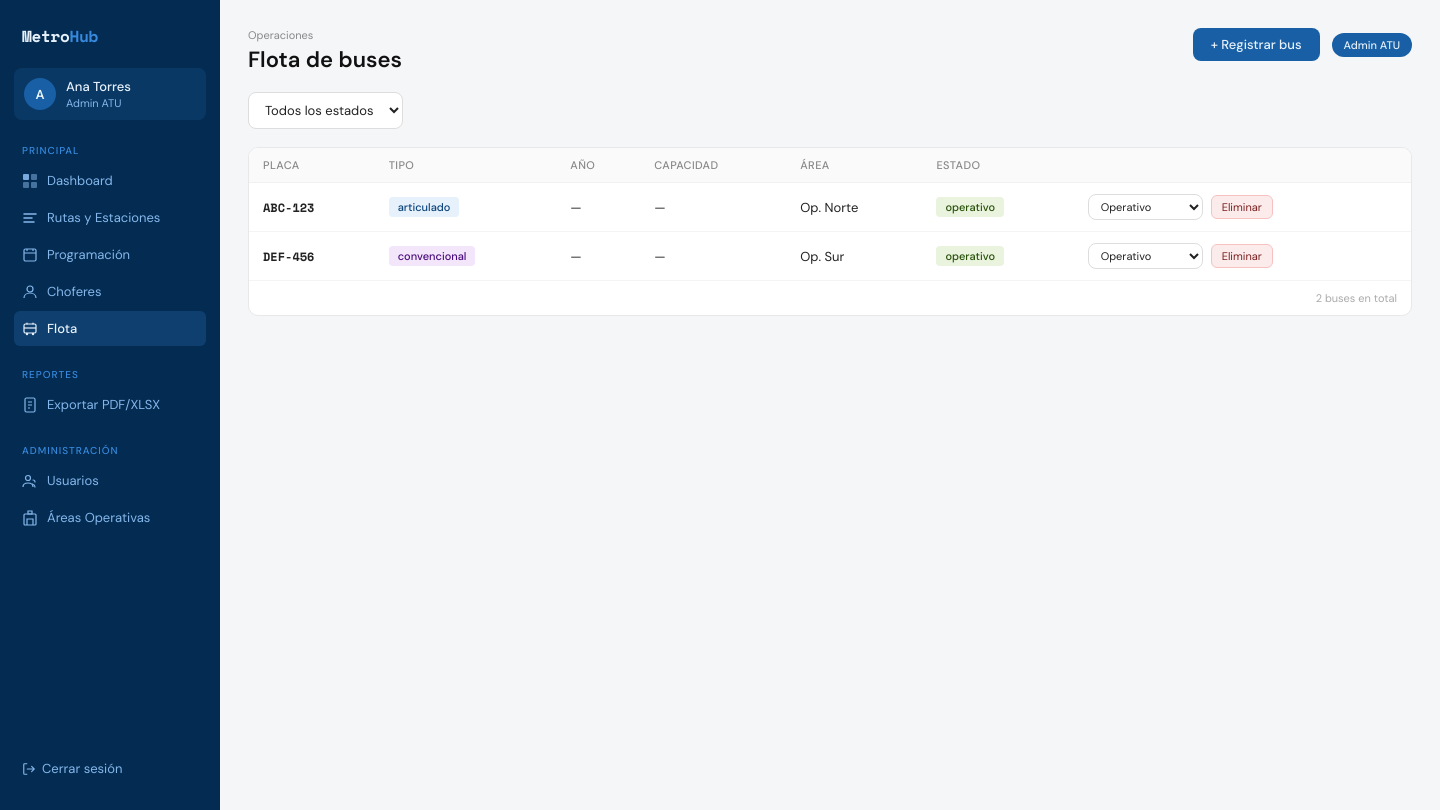
Test: Buses (RF09 — flota) › elimina un bus tras confirmar
Expected: the text "ABC-123" is shown, x1=263 y1=198 x2=314 y2=216
Step 1. Click the button "Eliminar" in the row of "ABC-123" → (1242, 207), box x1=1211 y1=195 x2=1273 y2=219
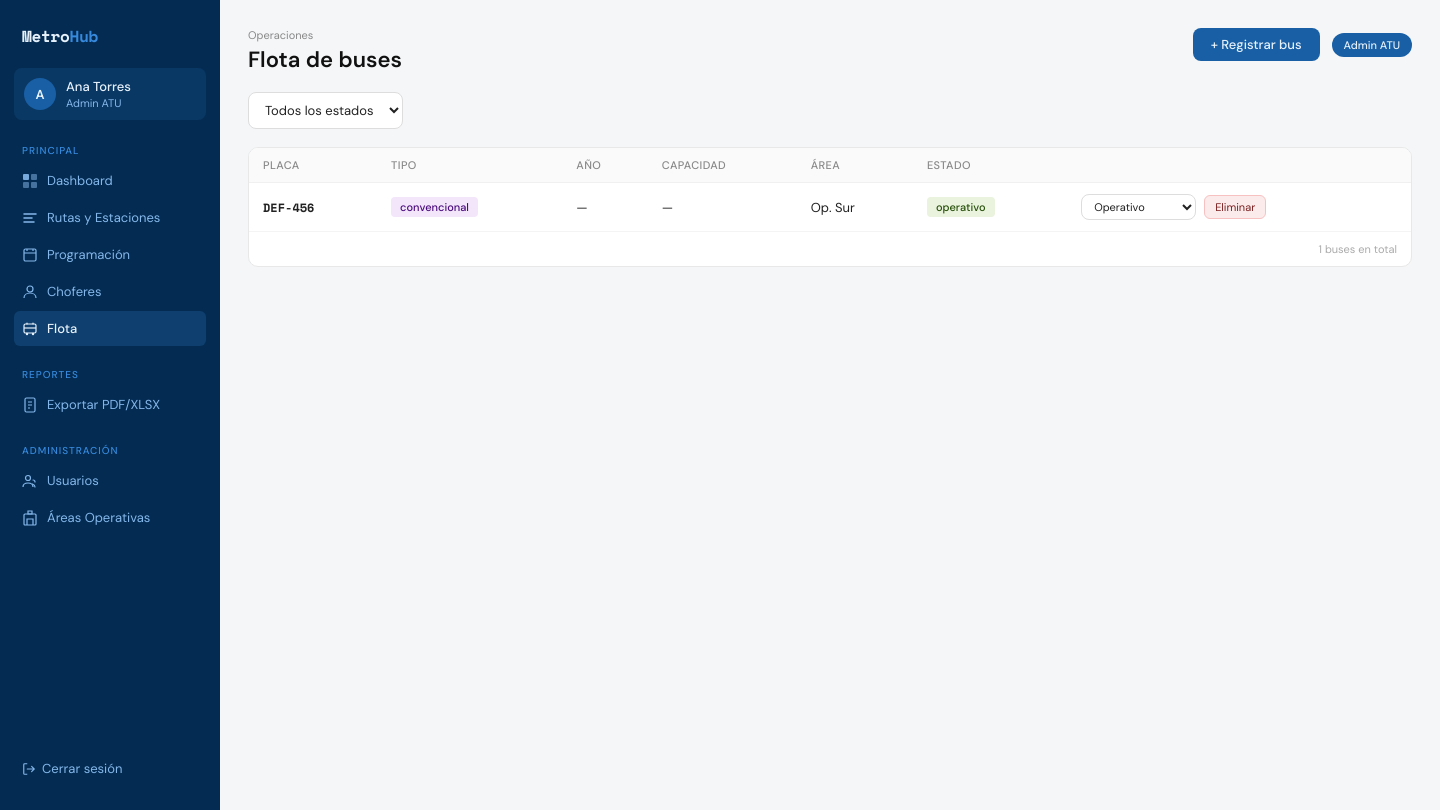
Now the text "ABC-123" is gone
Now the text "1 buses en total" is shown, box x1=1318 y1=242 x2=1397 y2=256
